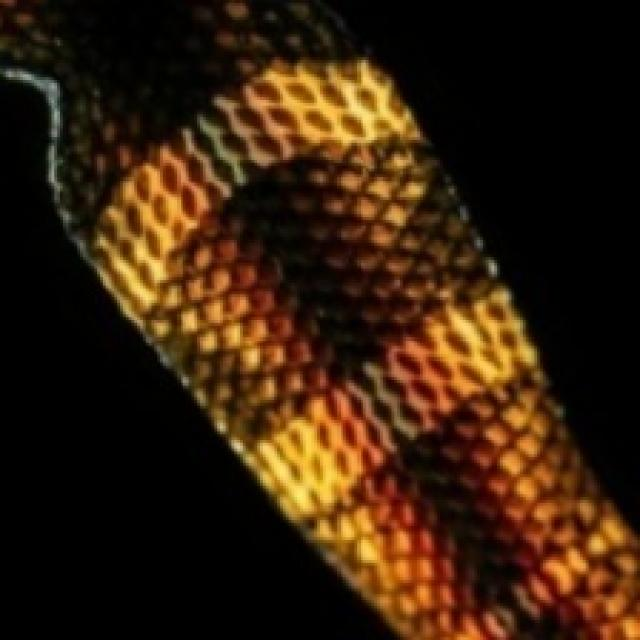king cobra: (0, 0, 637, 637), (160, 426, 280, 566), (200, 460, 214, 480)
